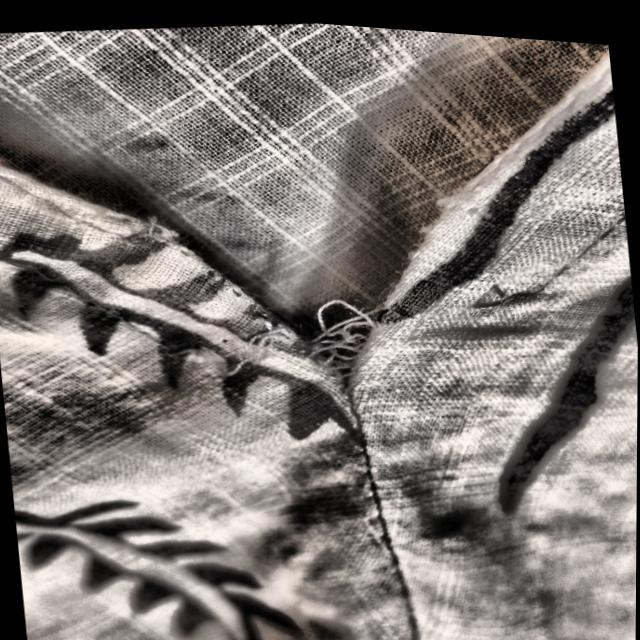Stitch: (177, 275, 398, 413)
